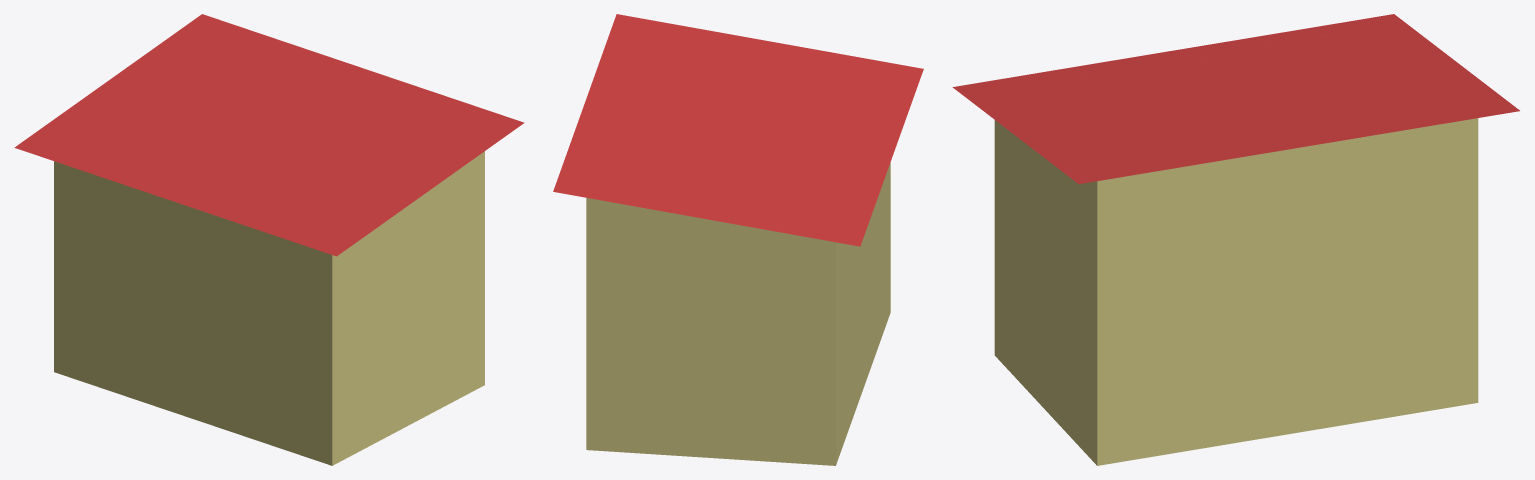
3 renders of one model, left to right at view 1: azimuth 30°, elevation 25°; view 2: azimuth 150°, elevation 25°; view 3: azimuth 270°, elevation 25°, orthographic. The views are drawn at different scales.
Bounding box in the file's own units: 11.43 × 13.1 × 7.62.
